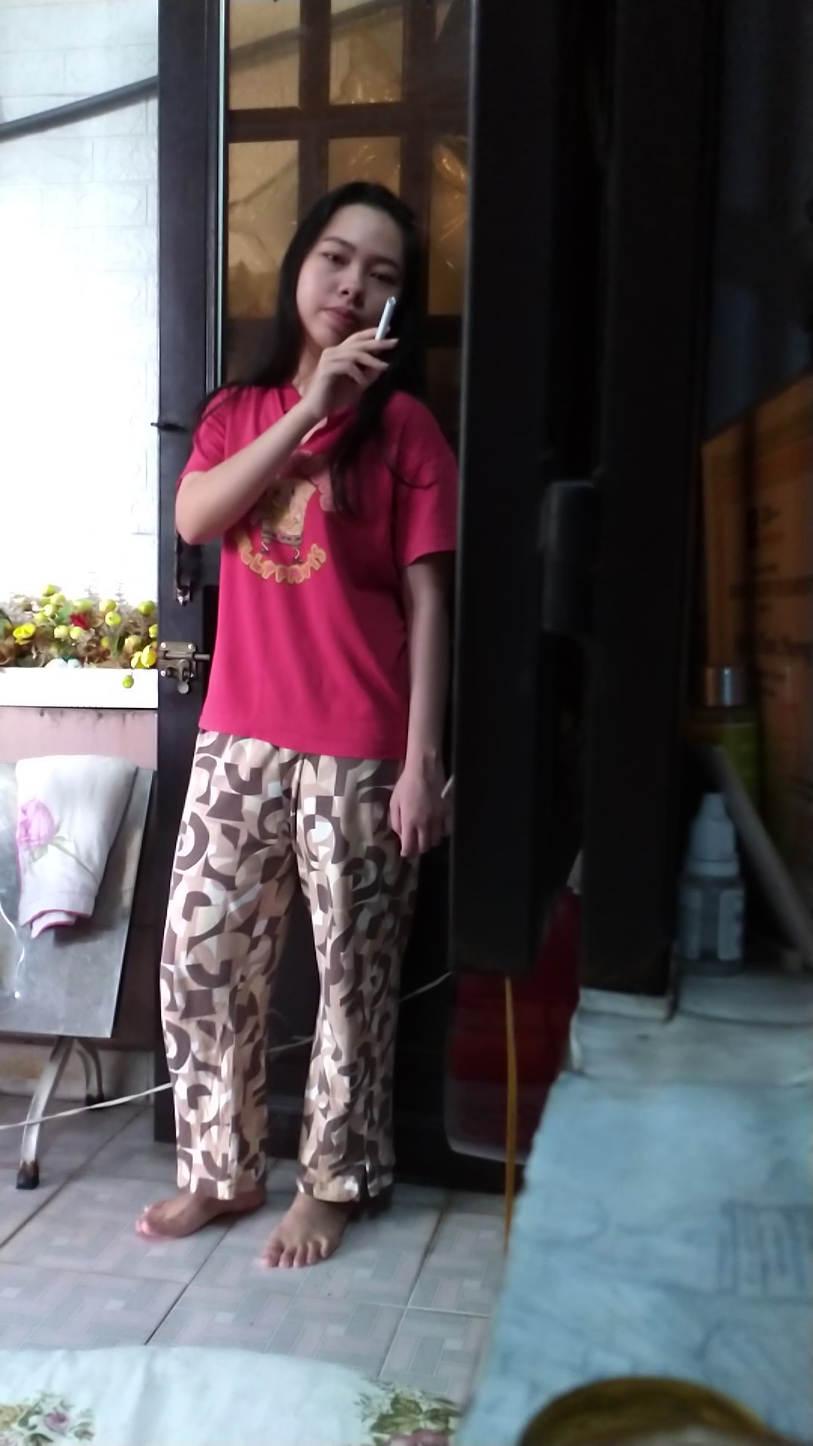cigarette: (375, 294, 403, 342)
person: (151, 142, 462, 1315)
